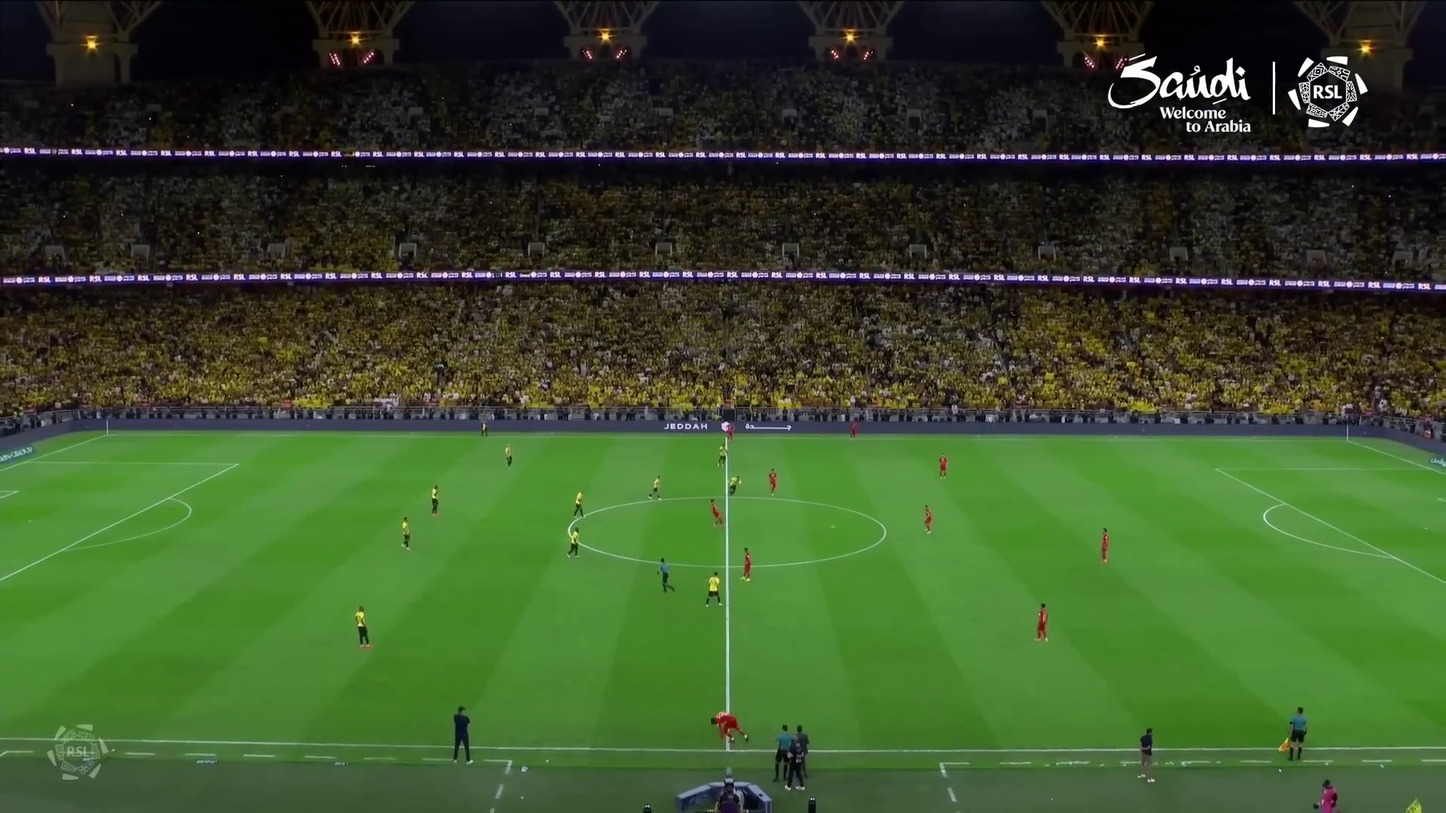ball: (830, 524, 835, 530)
player: (708, 708, 750, 752), (353, 605, 375, 652), (703, 572, 724, 610), (1033, 602, 1051, 645), (1097, 527, 1113, 566), (565, 527, 583, 561), (739, 547, 755, 584), (398, 516, 414, 552), (428, 484, 443, 520), (647, 474, 664, 503), (571, 490, 587, 520), (707, 498, 723, 528), (921, 504, 935, 535), (766, 467, 780, 496), (936, 453, 950, 481), (502, 443, 516, 471), (729, 473, 743, 498), (848, 418, 861, 441), (715, 447, 726, 467), (725, 420, 734, 441)
referee: (1277, 705, 1310, 762), (656, 557, 676, 595), (479, 415, 490, 439)
